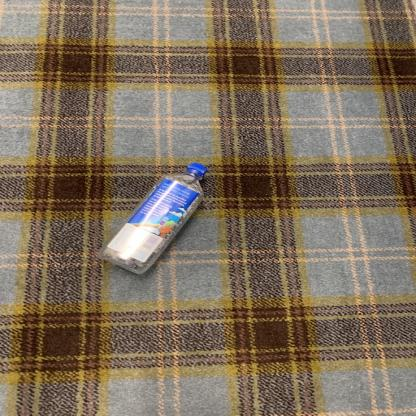trash: (99, 165, 211, 279)
